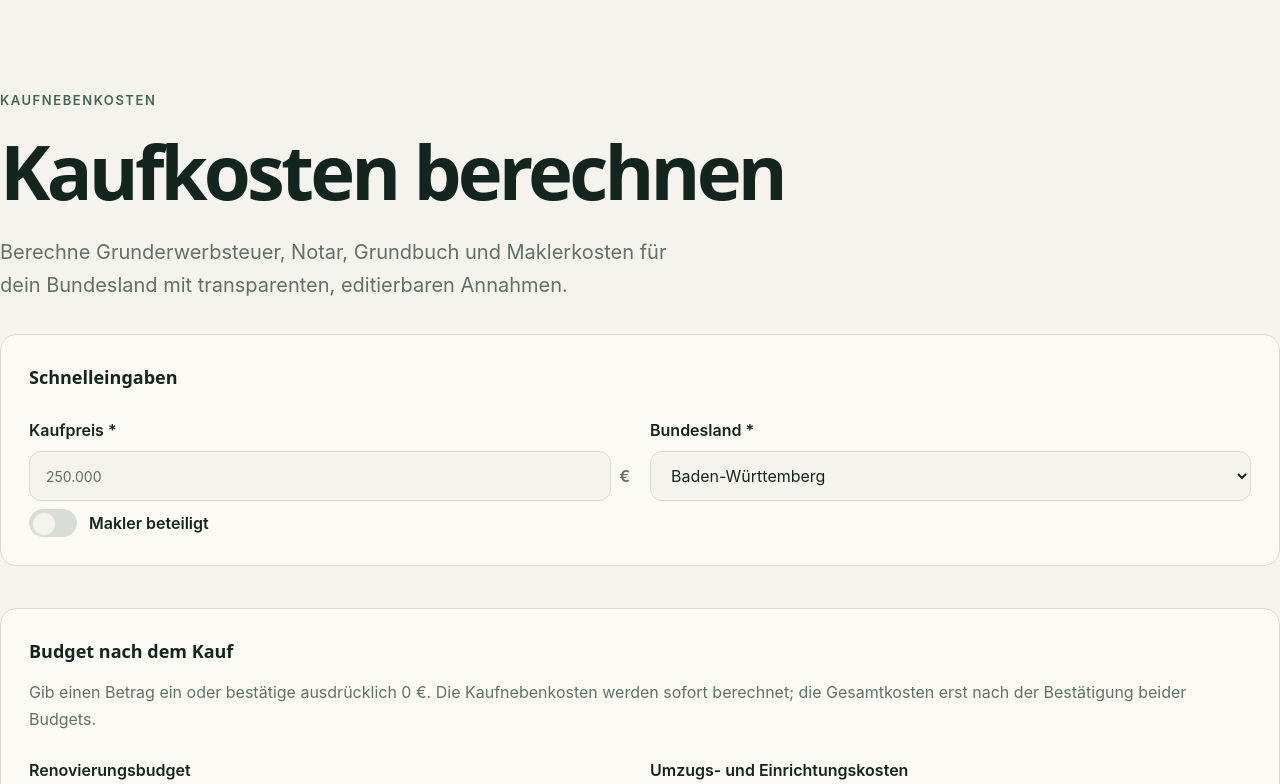
Test: PurchaseCostsPage › shows the transaction-cost breakdown before post-purchase budgets are confirmed
Type "250000" into the field labelled "Kaufpreis".
click(320, 476); type("250000")  # box [29,451,611,501]
(page scrolled)
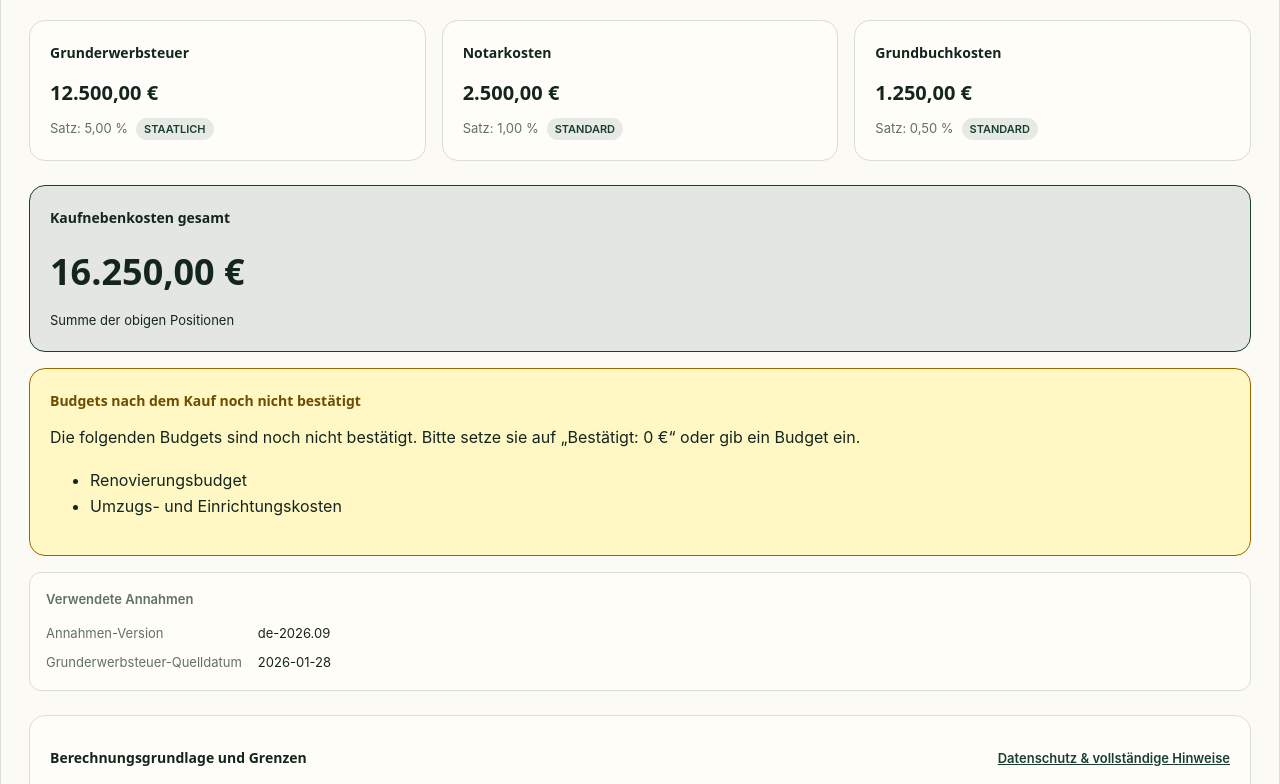
Result: the heading "Grunderwerbsteuer" is shown at [50,43,189,62]
Result: the text "12.500,00 €" is shown at [50,79,158,106]
Result: the heading "Kaufnebenkosten gesamt" is shown at [50,208,230,228]
